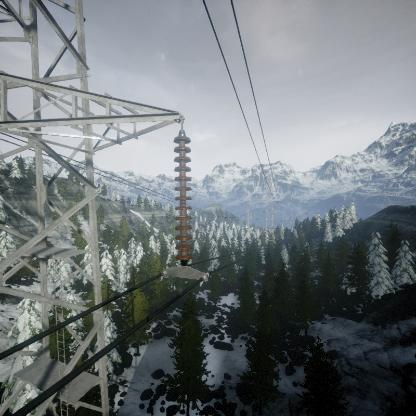insulator: (170, 129, 196, 265)
